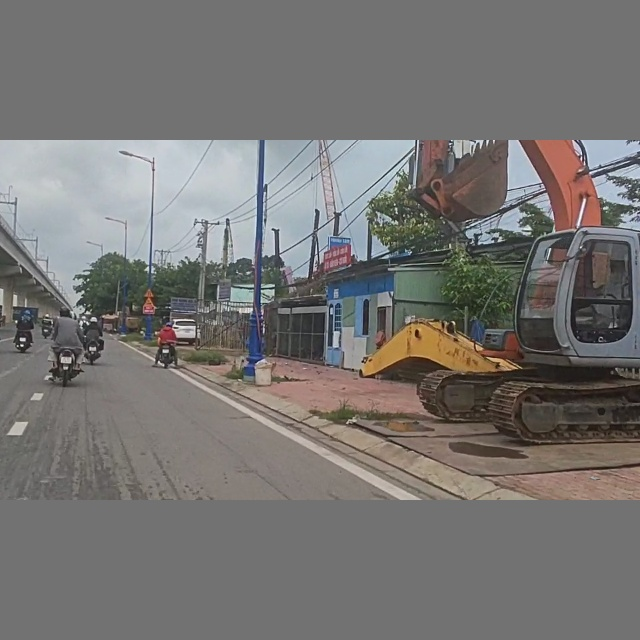W.203c: (143, 287, 155, 298)
W.245a: (142, 297, 155, 306)
